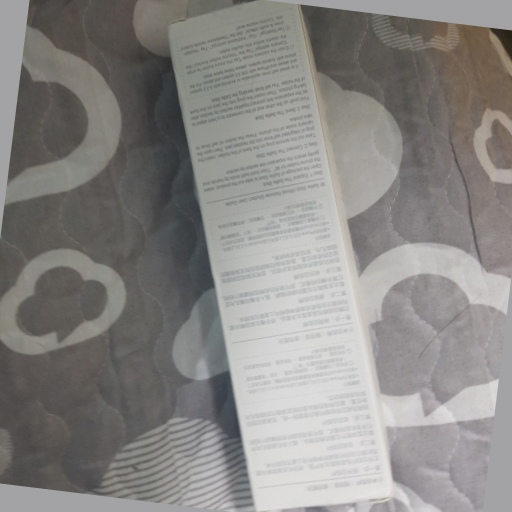Paper_0: (161, 1, 404, 512)
